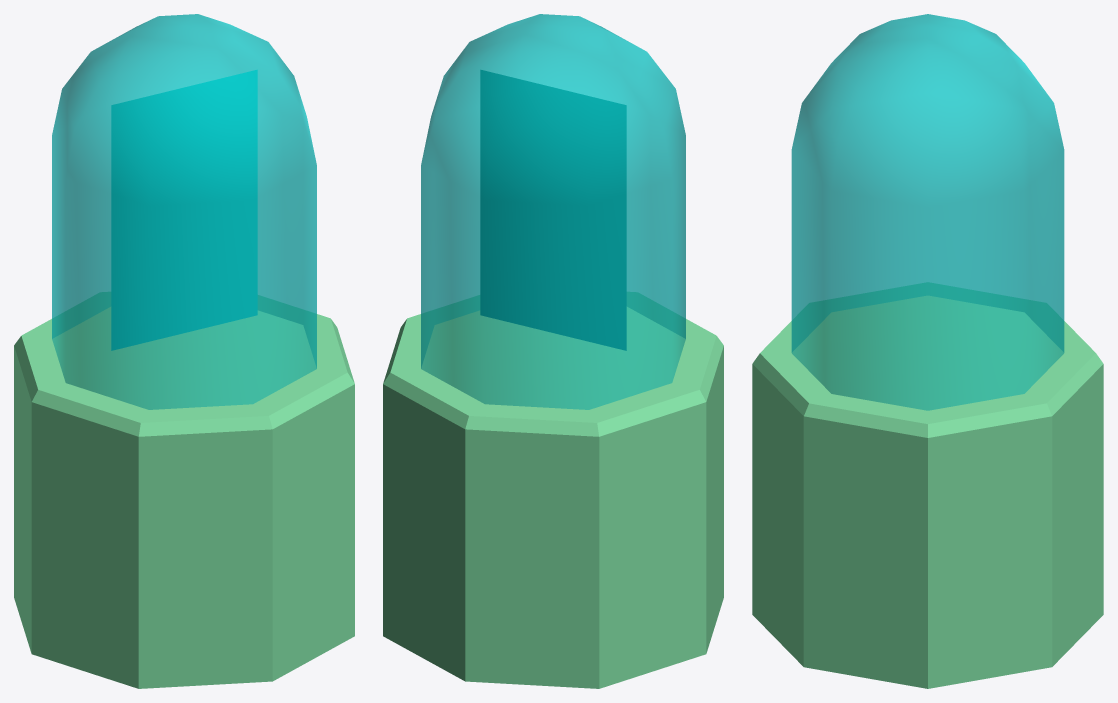
File: doctor.fbx
3 views of the same model, side by side, from view 1: azimuth 30°, elevation 25°; view 2: azimuth 150°, elevation 25°; view 3: azimuth 270°, elevation 25° (orthographic).
Visible parts, largest first — view 1: Doctor2, Doctor1, Doctor_face; view 2: Doctor2, Doctor1, Doctor_face; view 3: Doctor2, Doctor1.
Part boxes in pixels (bbox=[...]): Doctor2: bbox=[14, 292, 354, 688]; Doctor1: bbox=[52, 14, 316, 409]; Doctor_face: bbox=[111, 70, 257, 350]; Doctor2: bbox=[383, 292, 723, 688]; Doctor1: bbox=[421, 14, 685, 409]; Doctor_face: bbox=[480, 70, 626, 350]; Doctor2: bbox=[752, 282, 1103, 688]; Doctor1: bbox=[791, 14, 1064, 410].
Size of the model in its own units: 394 by 728 by 394.
